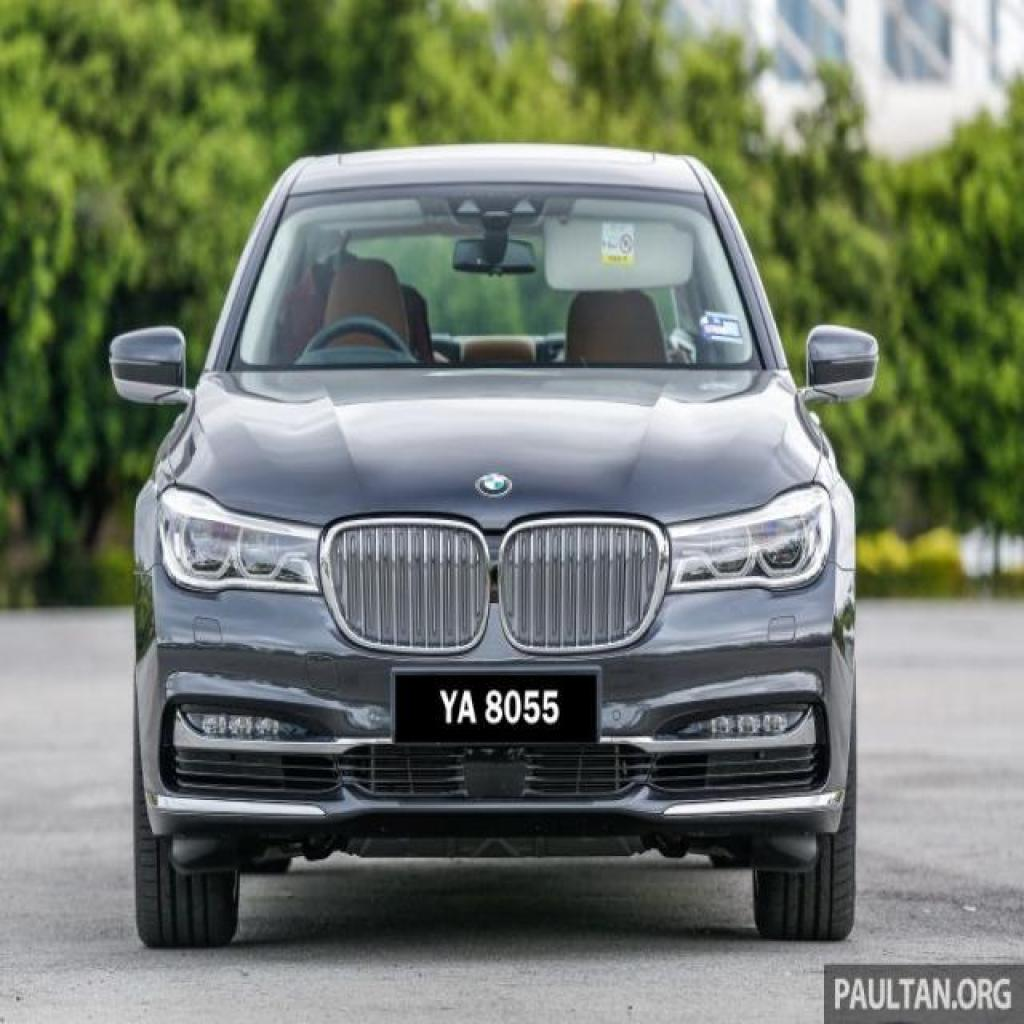car: (109, 146, 875, 944)
car plate: (390, 672, 595, 741)
